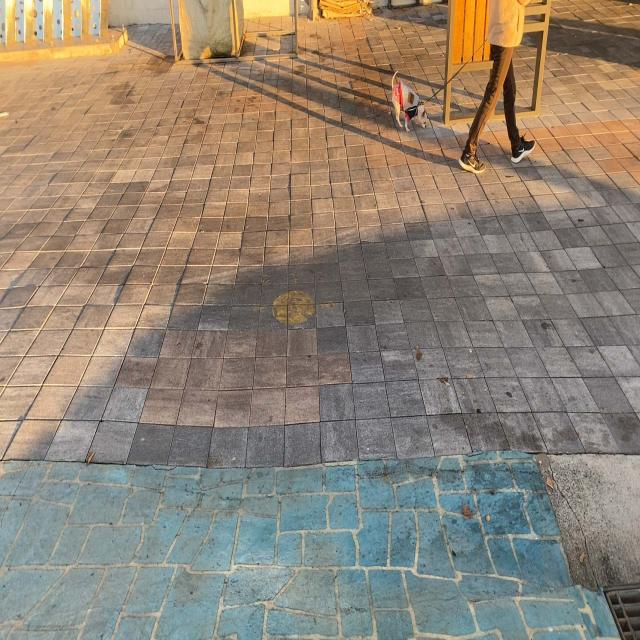Leashed_Dog: (392, 23, 505, 134)
